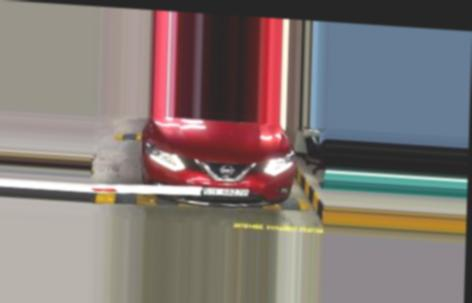License_Plate: (203, 184, 250, 199)
